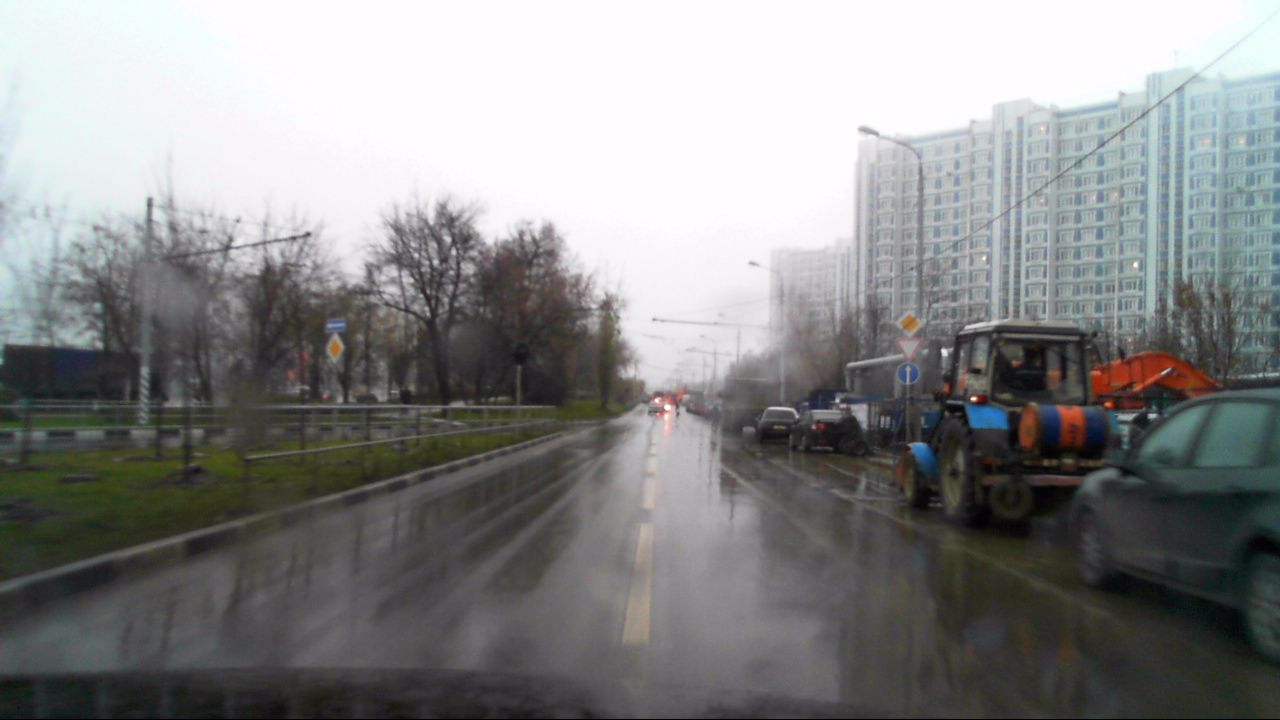main road: (896, 310, 922, 337)
